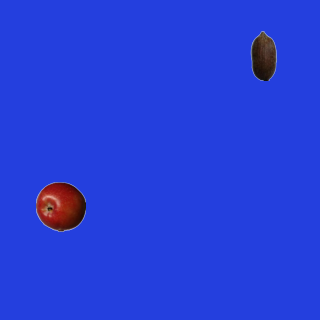Apple Braeburn: (35, 181, 85, 231)
Nut Pecan: (238, 30, 288, 80)
